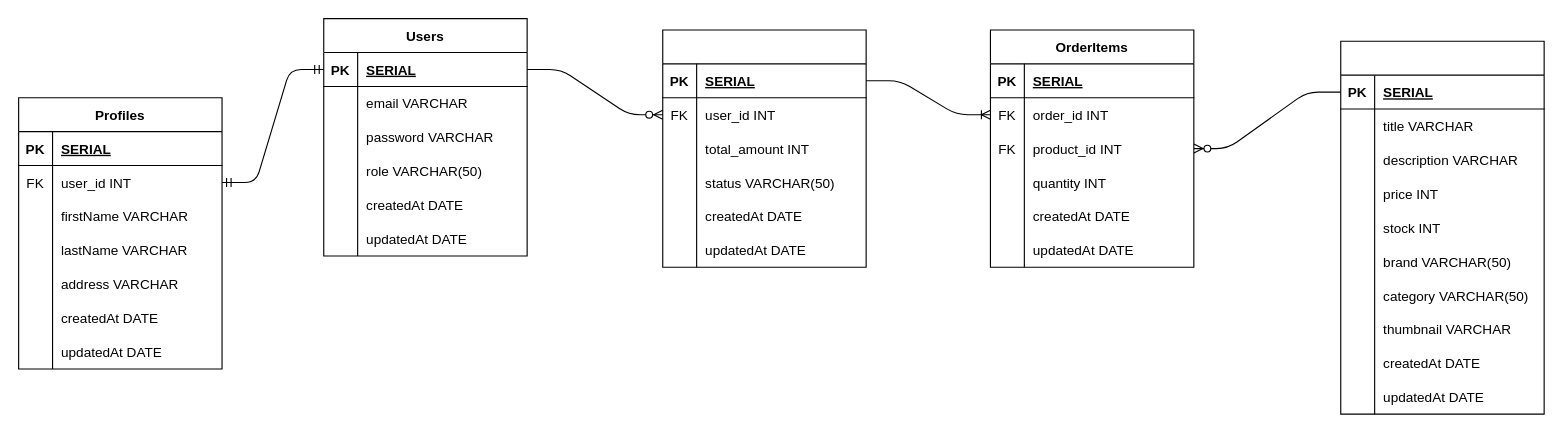
Some shapes in this 1563 by 433 pixel diagram are drawn without their labels. Here are the shapes that lost their labels. From the top down, the box of each, then its label:
(662, 29, 866, 267): Orders
(1340, 40, 1544, 414): Products
